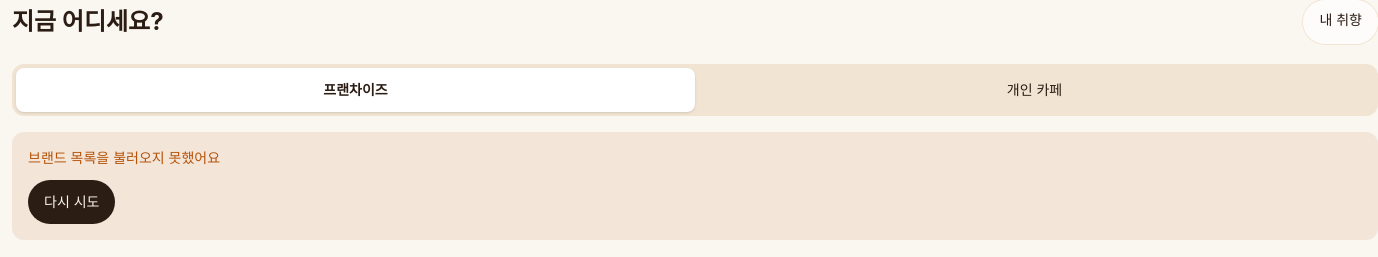
Scenario: Home › shows a retry button when /brands fails, and refetches on click
Check: the text "브랜드 목록을 불러오지 못했어요" is shown, box [28,149,220,166]
Step 1. Click the button "다시 시도" → point(72, 202), box [28,180,116,224]
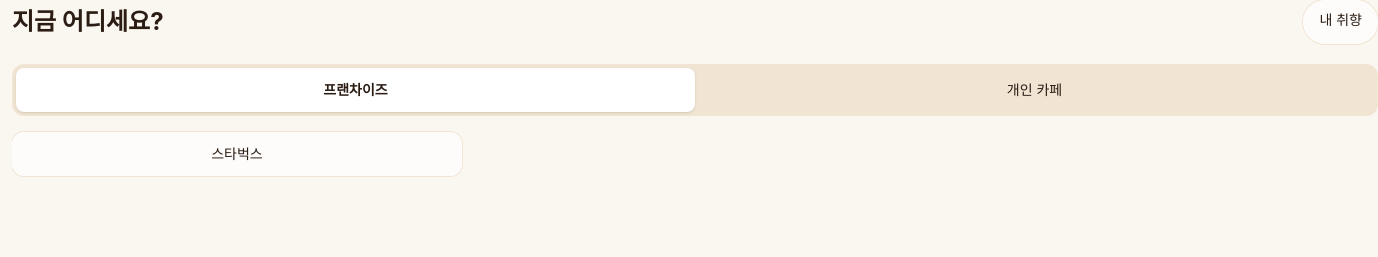
Check: the button "스타벅스" is shown, box [12,132,462,176]
